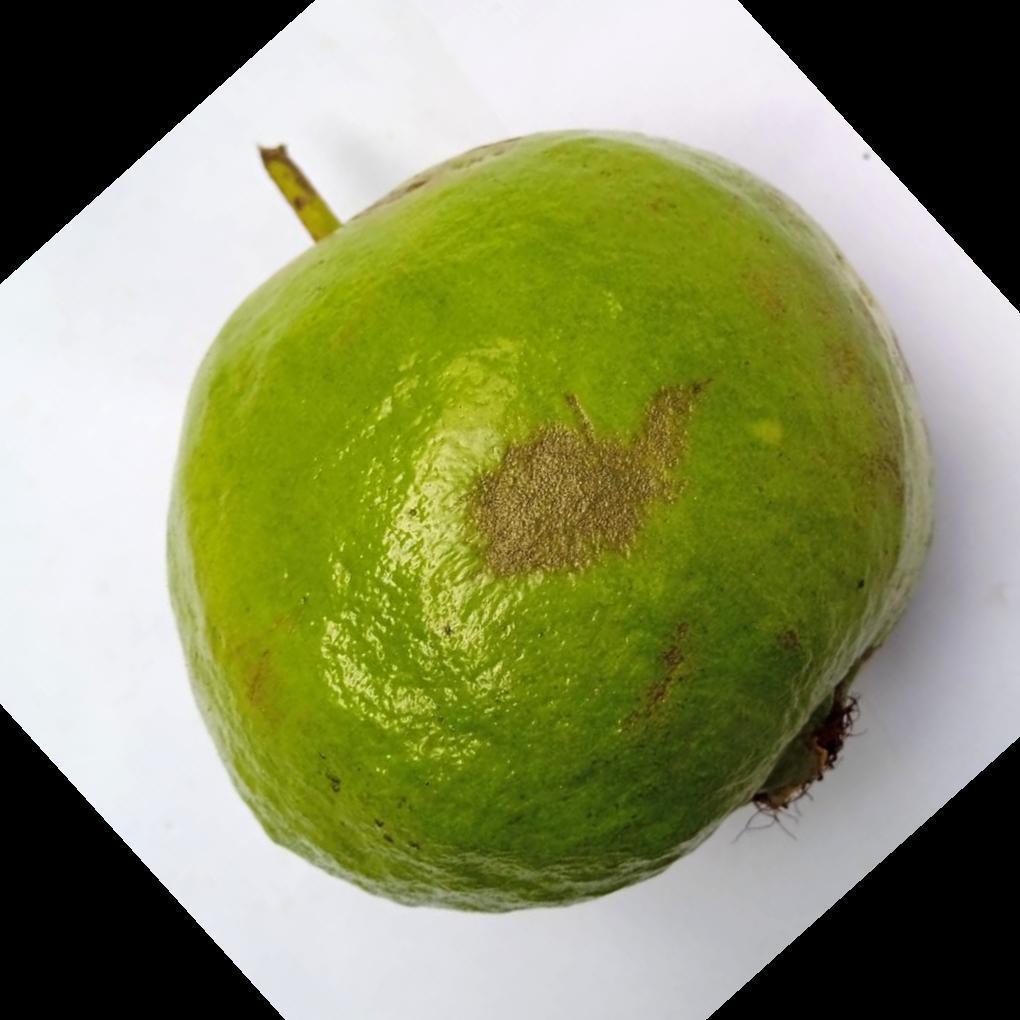FreshGuava: (163, 131, 935, 919)
